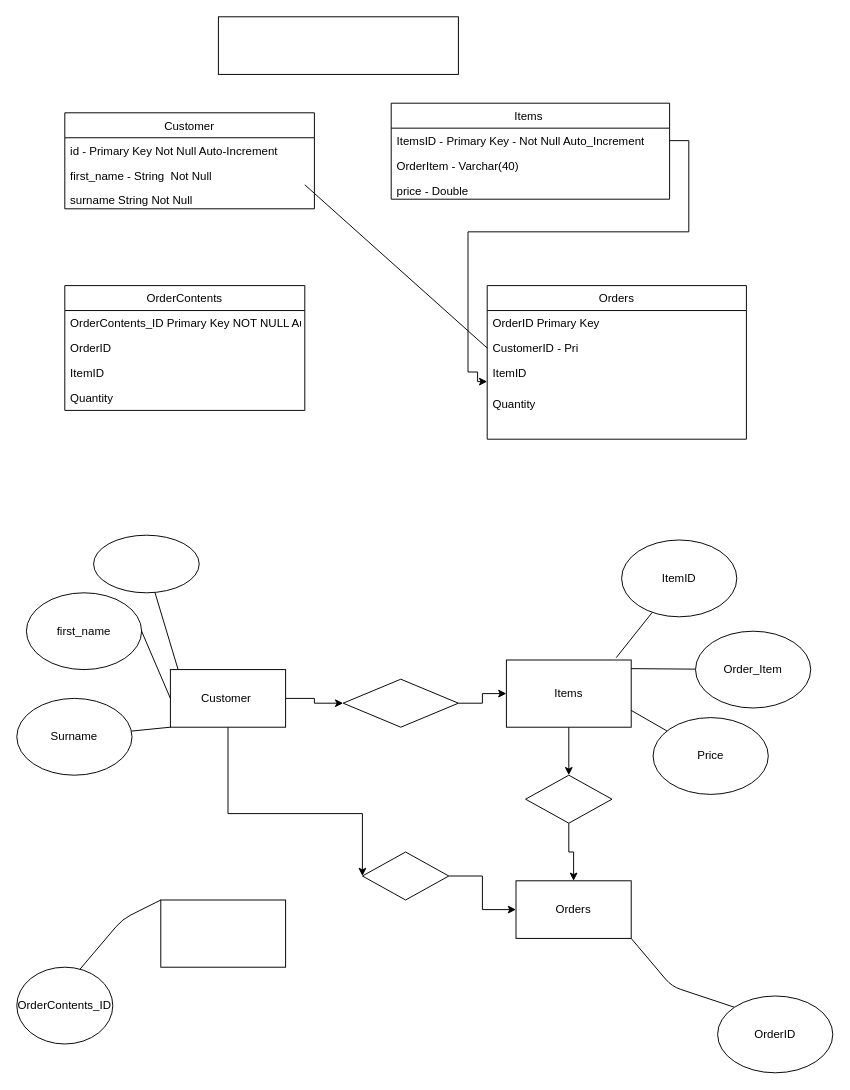
The diagram is 850 pixels wide and 1090 high, and some of its shapes have lost their labels. The centre of each missing label's shape, as x and y in pixels:
"Contains" belongs at [568,798].
"Entity Relationship Diagram - IMS-Starter - Christopher Yiangou" belongs at [337,45].
"ID" belongs at [146,563].
"OrderContents (OrderLine)" belongs at [223,933].
"Payment" belongs at [405,875].
"Purchases" belongs at [400,702].
